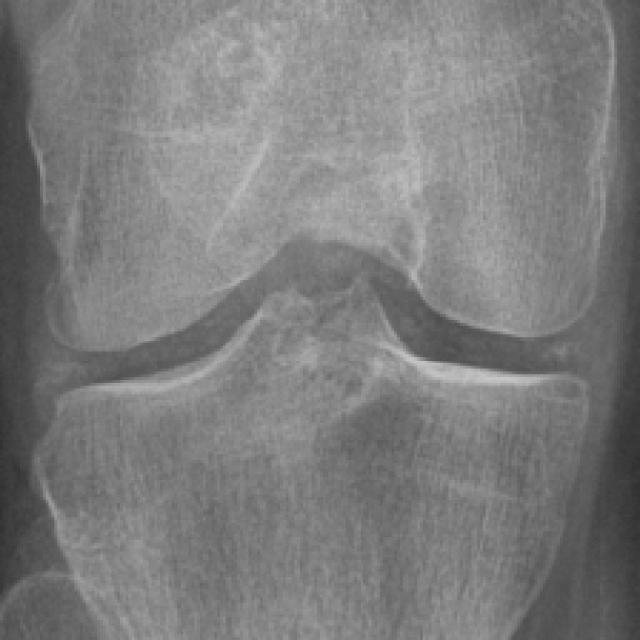femur: (24, 0, 620, 355)
tibia: (41, 281, 578, 638)
